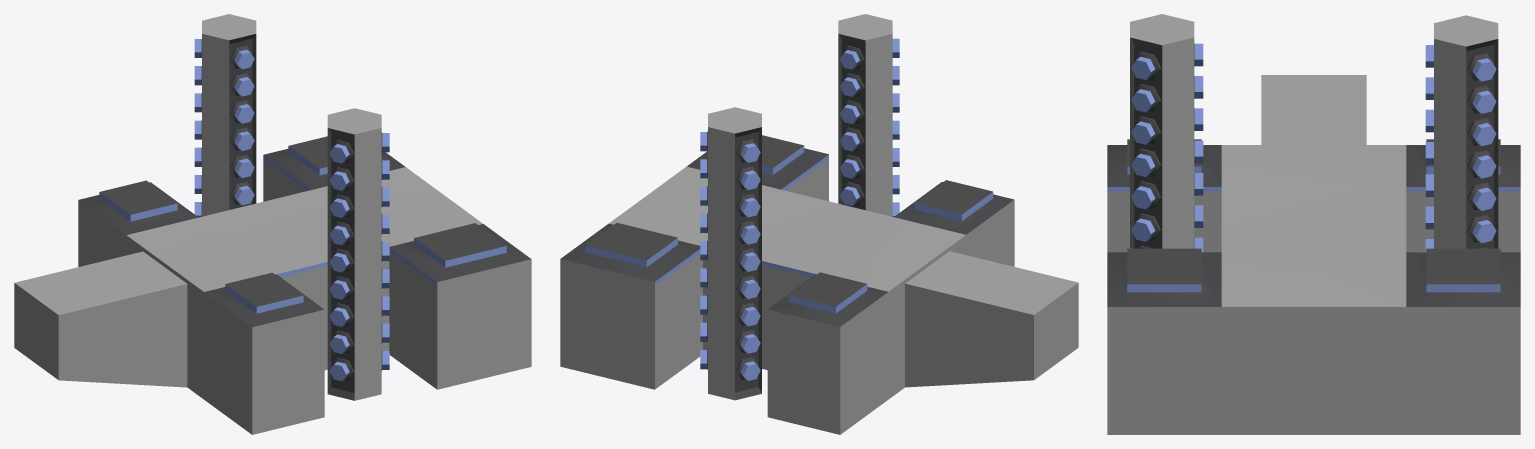
The model's file is ROOM BATTRY.fbx.
3 renders of one model, left to right at view 1: azimuth 30°, elevation 25°; view 2: azimuth 150°, elevation 25°; view 3: azimuth 270°, elevation 25°, orthographic. The views are drawn at different scales.
Parts seen in each view (by area): view 1: Battery_Tower2; view 2: Battery_Tower2; view 3: Battery_Tower2.
Boxes of the visible parts, x1,y1,x2,y2 form: Battery_Tower2: (14,14,531,434); Battery_Tower2: (560,14,1078,434); Battery_Tower2: (1107,14,1520,434).
Size of the model in its own units: 541 by 338 by 400.
